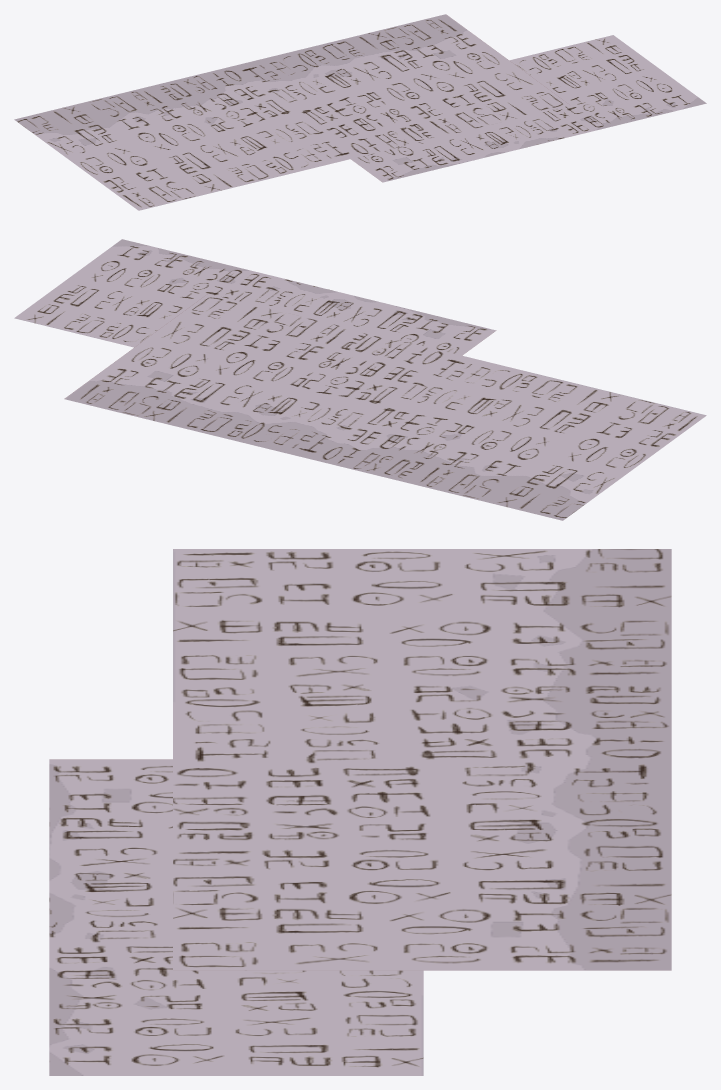
Rendered from Papes.fbx.
3 renders of one model, top to bottom at view 1: azimuth 30°, elevation 25°; view 2: azimuth 150°, elevation 25°; view 3: azimuth 270°, elevation 25°, orthographic. The views are drawn at different scales.
Visible parts, largest first — view 1: Paper2, Paper; view 2: Paper2, Paper; view 3: Paper2, Paper.
Part boxes in pixels (x1=…): Paper2: x1=14, y1=14, x2=570, y2=210; Paper: x1=351, y1=35, x2=706, y2=182; Paper2: x1=64, y1=293, x2=706, y2=520; Paper: x1=14, y1=239, x2=496, y2=355; Paper2: x1=173, y1=549, x2=671, y2=970; Paper: x1=49, y1=759, x2=423, y2=1075.
Size of the model in its own units: 0.0497 by 0.0001 by 0.0249.
1 material, 1 textured.
